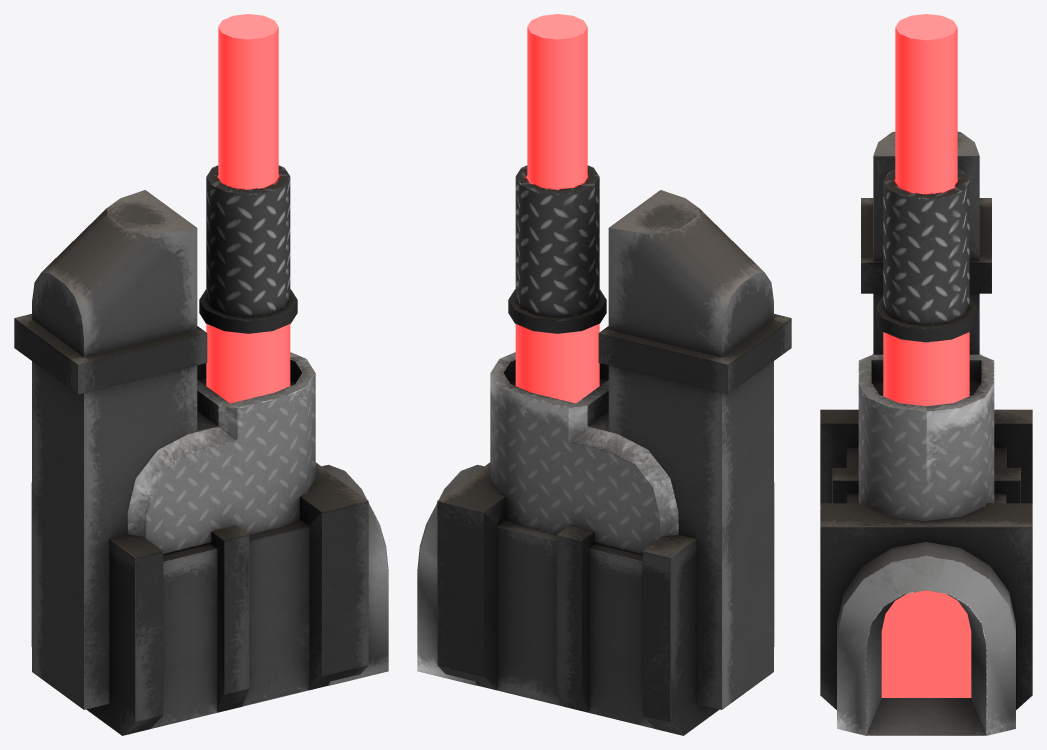
File: lasercatcher.fbx
3 views of the same model, side by side, from view 1: azimuth 30°, elevation 25°; view 2: azimuth 150°, elevation 25°; view 3: azimuth 270°, elevation 25° (orthographic). The views are drawn at different scales.
Visible parts, largest first — view 1: Cube.071; view 2: Cube.071; view 3: Cube.071.
Part boxes in pixels (box(x1,y1,x2,y2)): Cube.071: box(14, 14, 388, 735); Cube.071: box(417, 14, 791, 735); Cube.071: box(820, 14, 1032, 735).
Size of the model in its own units: 1.82 by 3.18 by 6.2.
1 material, 1 textured.
